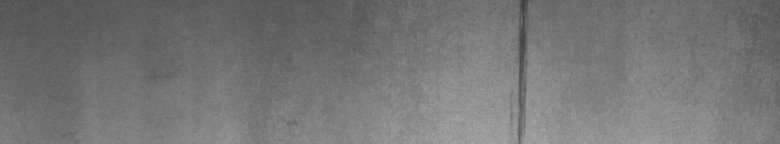hd: (511, 4, 535, 136)
